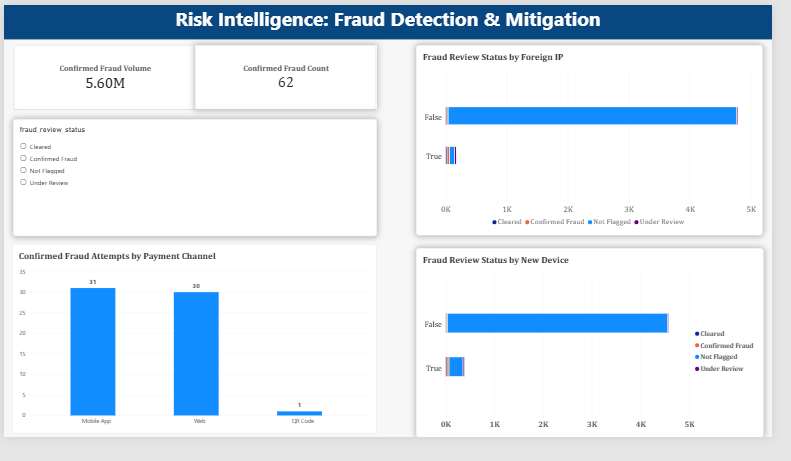

The dashboard page shown, as its layout file describes it:
{"tool":"powerbi","page":{"name":"Page 3","canvas":[1920,1080],"ordinal":2},"visuals":[{"type":"cardVisual","fields":{"Data":["transactions_clean.Confirmed Fraud Volume"]},"box":[25.2,100.8,453.5,161.3],"z":0},{"type":"cardVisual","fields":{"Data":["transactions_clean.Confirmed Fraud Count"]},"box":[478.7,100.8,453.5,161.3],"z":1000},{"type":"barChart","title":"Fraud Review Status by Foreign IP","fields":{"Category":["transactions_clean.is_foreign_ip"],"Series":["transactions_clean.fraud_review_status"],"Y":["CountNonNull(transactions_clean.transaction_id)"]},"box":[1030.6,100.8,866.8,476.2],"z":2000},{"type":"barChart","title":"Fraud Review Status by New Device","fields":{"Category":["transactions_clean.is_new_device"],"Series":["transactions_clean.fraud_review_status"],"Y":["CountNonNull(transactions_clean.transaction_id)"]},"box":[1030.6,607.2,869.3,473.7],"z":3000},{"type":"listSlicer","fields":{"Values":["transactions_clean.fraud_review_status"]},"box":[22.7,284.7,910,293.3],"z":4000},{"type":"clusteredColumnChart","title":"Confirmed Fraud Attempts by Payment Channel","fields":{"Category":["transactions_clean.payment_channel"],"Y":["transactions_clean.Confirmed Fraud Count"]},"box":[20.2,597.2,912.1,473.7],"z":5000},{"type":"textbox","box":[0,0,1920,85.7],"z":6000}]}

Visuals, with their boxes on the page's 1920x1080 design canvas (x1, y1, x2, y2). These are canvas units, not pixel positions in the 791x461 screenshot, which may show the page scaled, cropped or inside an application window:
cardVisual - transactions_clean.Confirmed Fraud Volume: 25, 101, 479, 262
cardVisual - transactions_clean.Confirmed Fraud Count: 479, 101, 932, 262
"Fraud Review Status by Foreign IP" barChart: 1031, 101, 1897, 577
"Fraud Review Status by New Device" barChart: 1031, 607, 1900, 1081
listSlicer - transactions_clean.fraud_review_status: 23, 285, 933, 578
"Confirmed Fraud Attempts by Payment Channel" clusteredColumnChart: 20, 597, 932, 1071
textbox: 0, 0, 1920, 86
